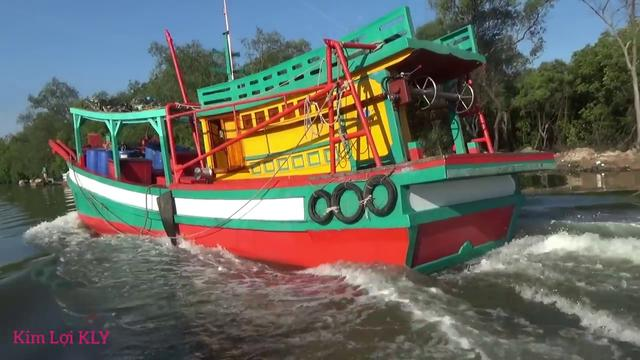Ship: (50, 23, 550, 281)
